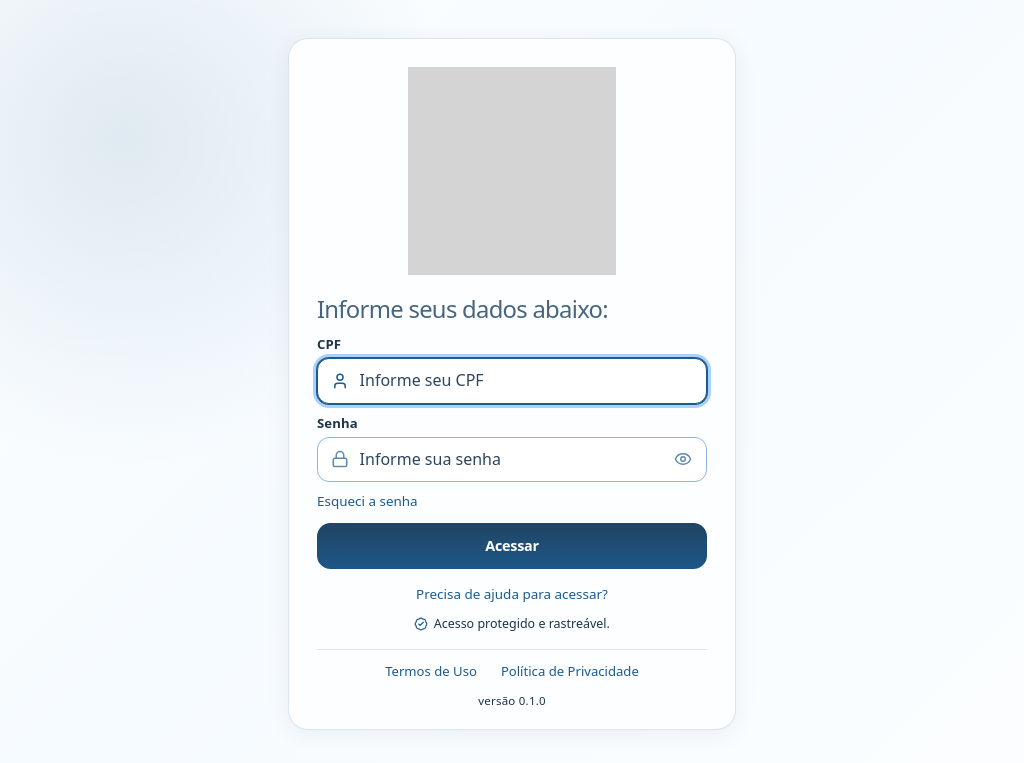
Test case: LoginPageClient › não vaza a mensagem do servidor quando login retorna 400 (anti-enumeração)
The width and height of the screenshot is (1024, 763).
Type "12345678900" into the field labelled "CPF". click: (512, 381)
box: x1=317 y1=358 x2=707 y2=404
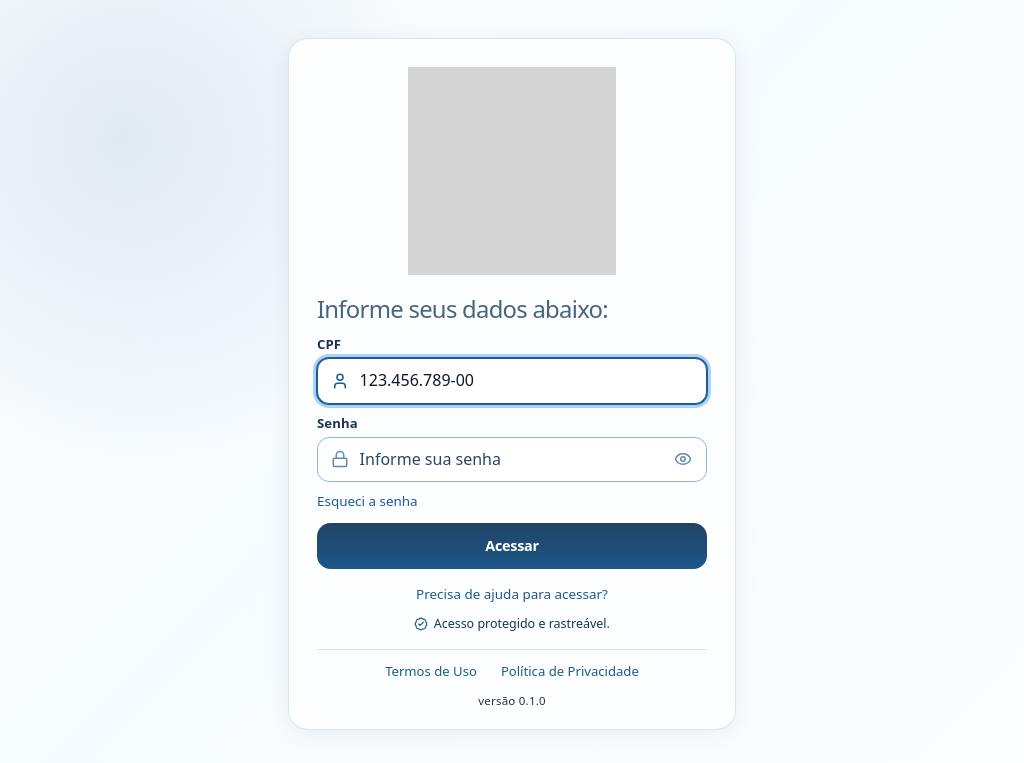
Type "Senha@123" into the password field labelled "Senha". click: (512, 459)
box: x1=317 y1=436 x2=707 y2=482
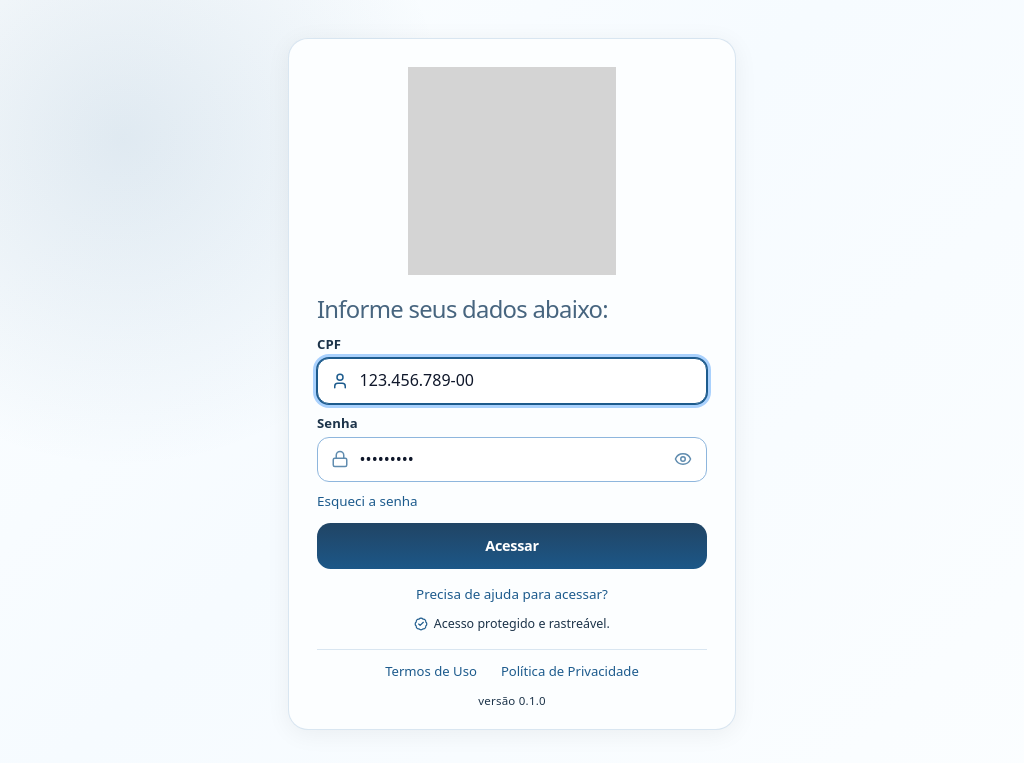
Click the button "Acessar". click: (512, 546)
box: x1=317 y1=523 x2=707 y2=569
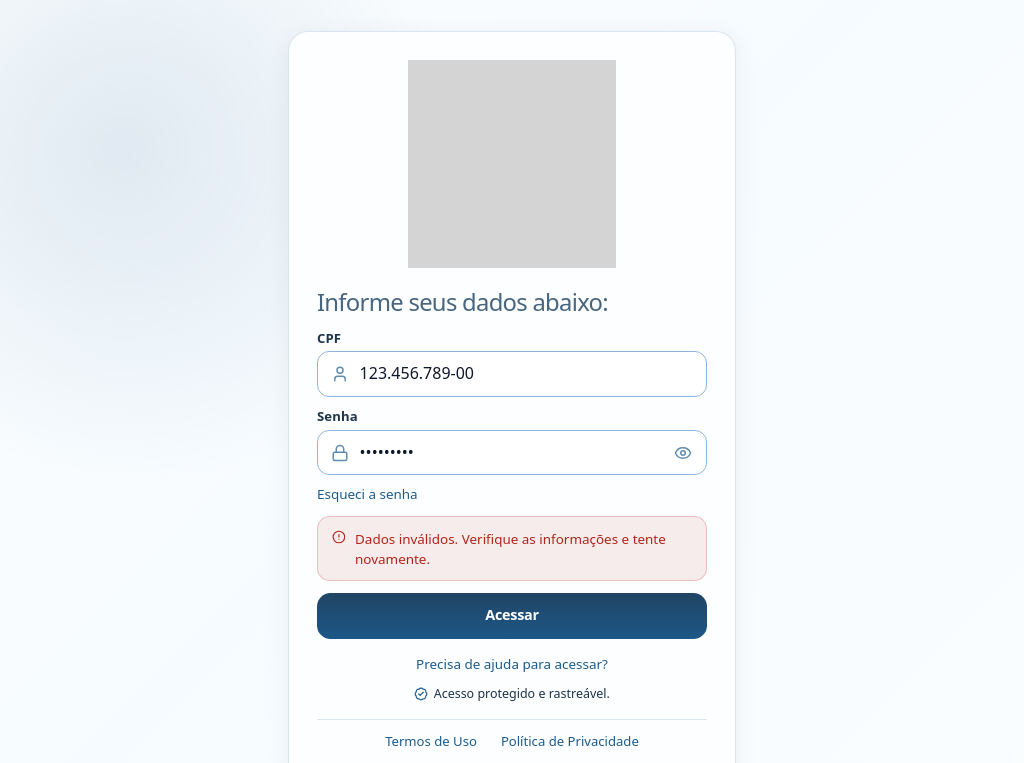
Check: the message reads "Dados inválidos. Verifique as informações e tente novamente.", box x1=355 y1=530 x2=666 y2=568
